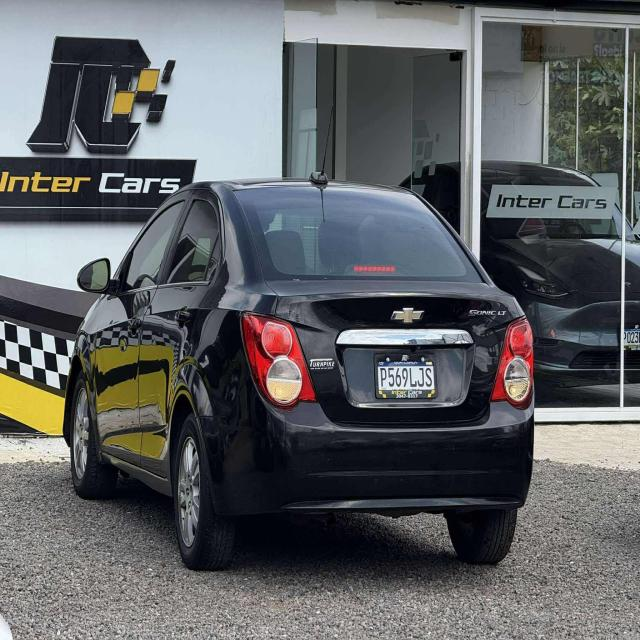Placas: (368, 351, 436, 407)
